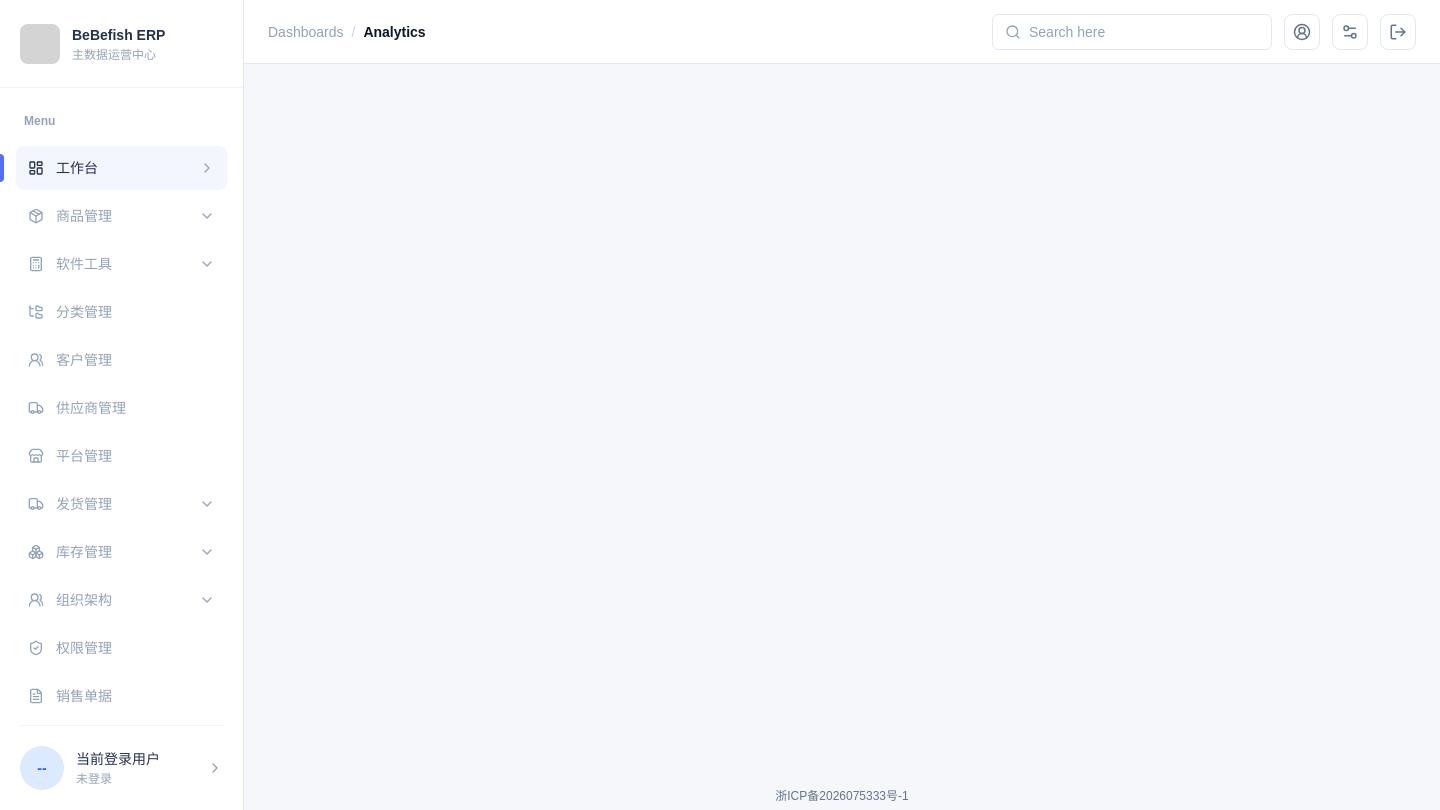
Test: refreshes cached permissions so a newly granted shipping menu appears without logging in again
This screenshot has width=1440, height=810.
Click the button "发货管理" at (122, 504), box top-left (16, 482), bottom-right (227, 526)
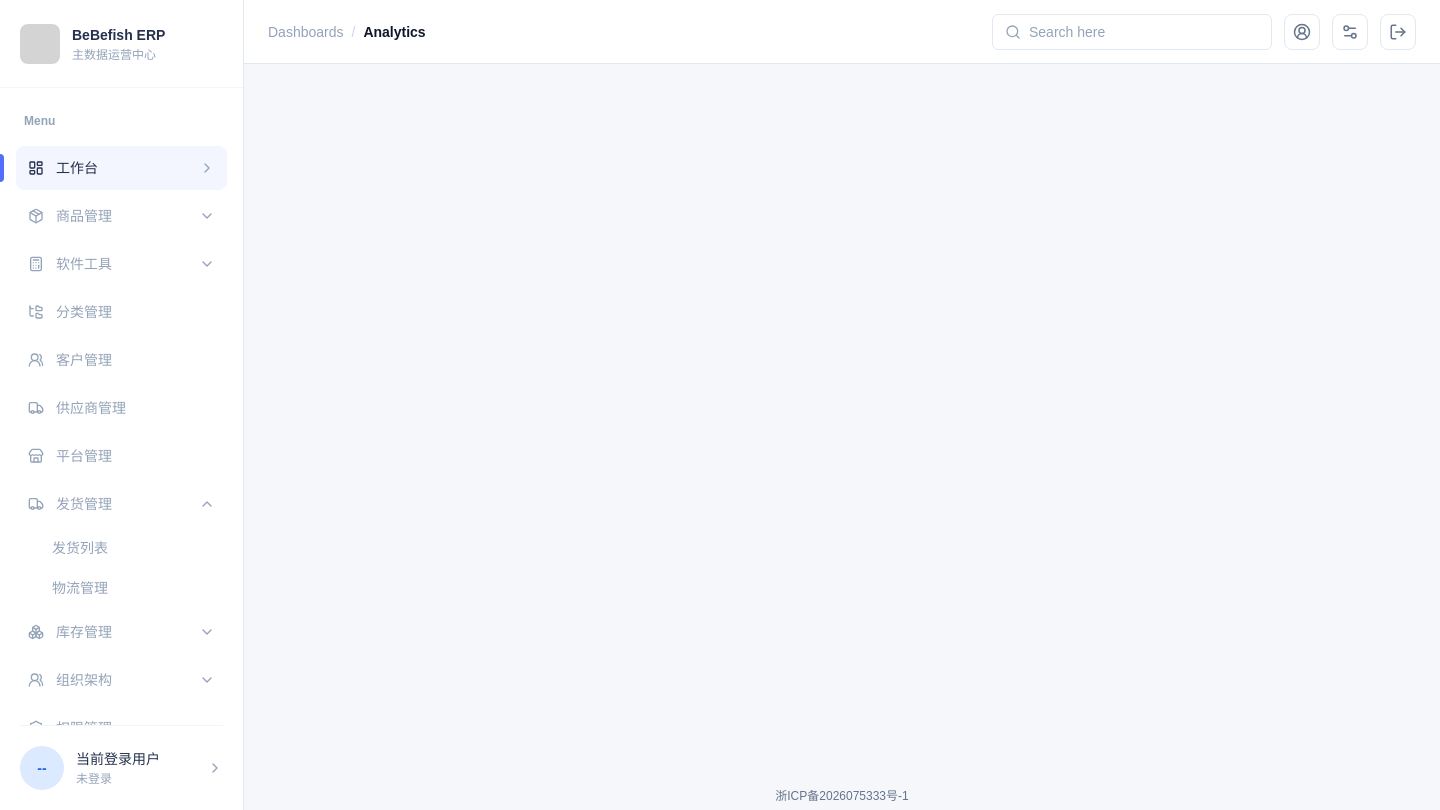
expect the link to "/shipping/list" reads "发货列表": met, box top-left (52, 540), bottom-right (108, 556)
